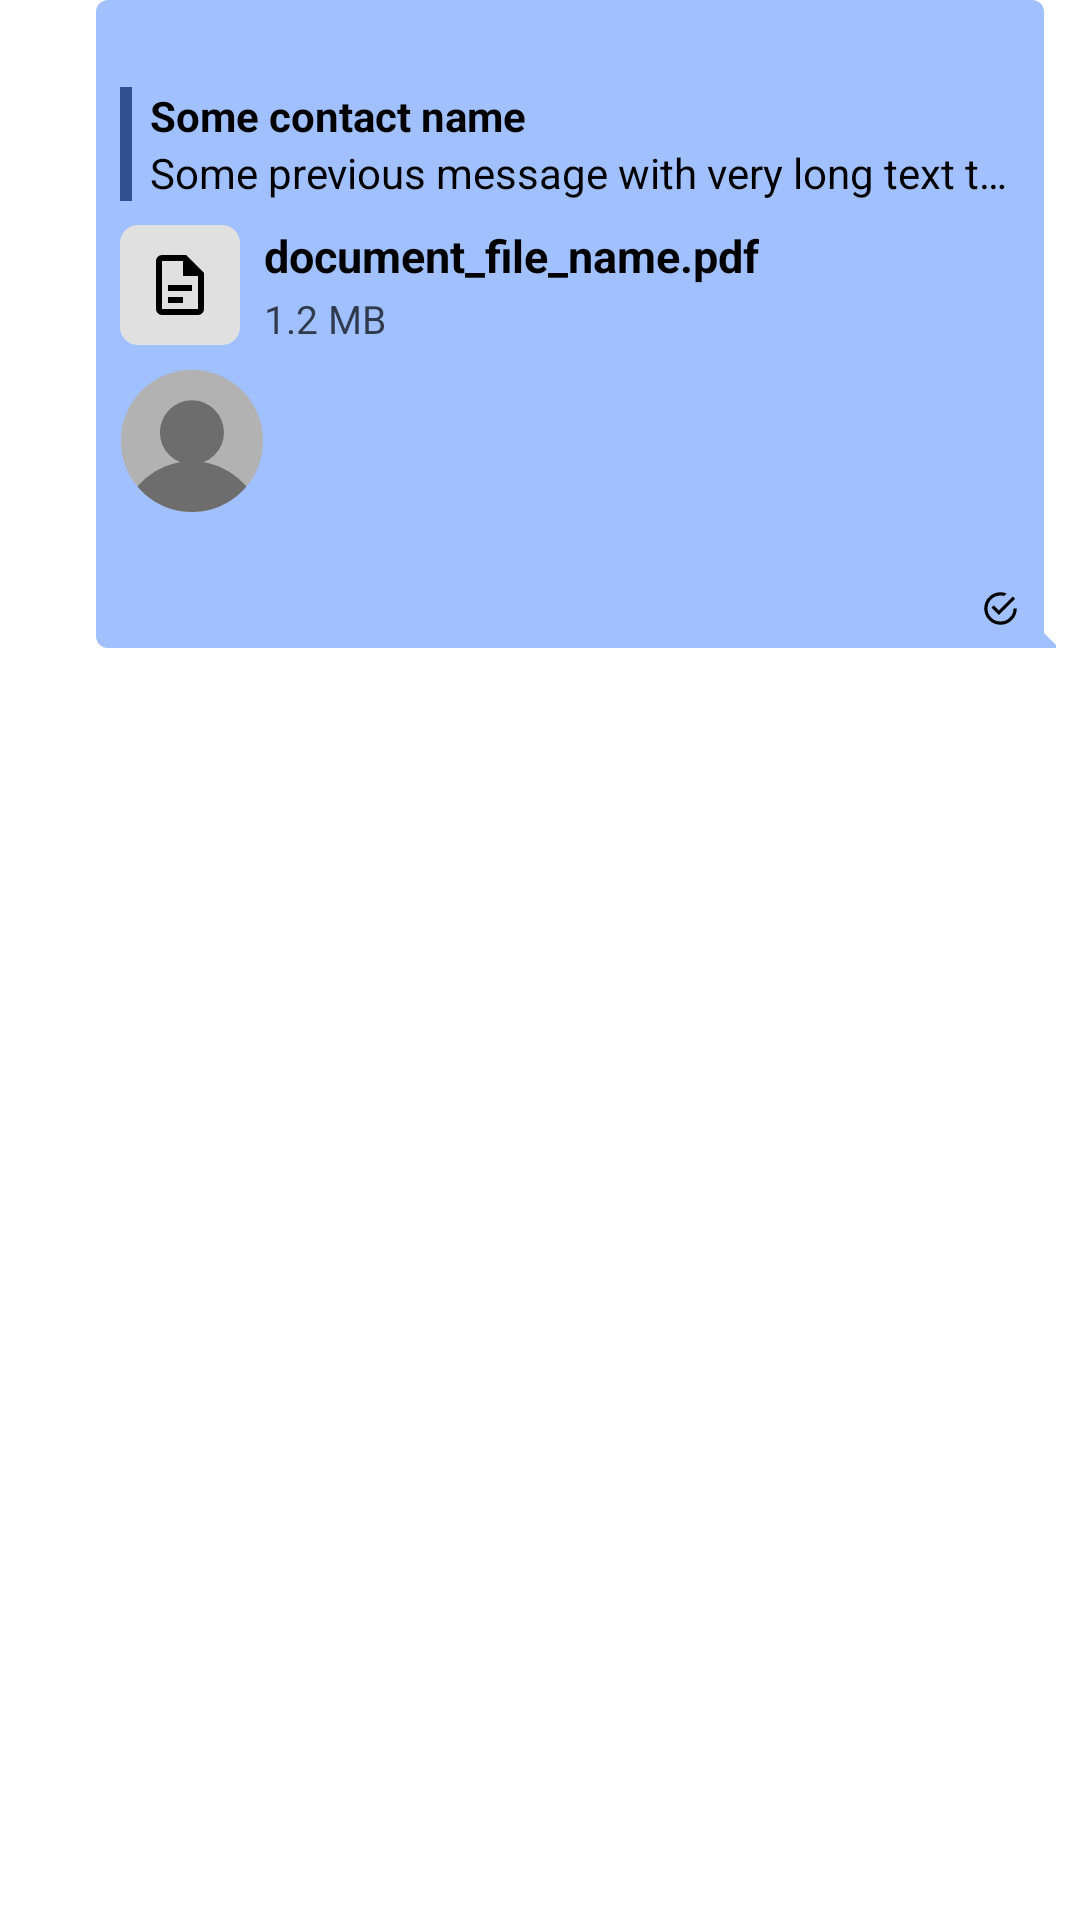

Icons on this 1080x1920 Android screen, each with its box as {"left": x1, "top": y1, "right": x2, "bottom": y2}:
message delivered: {"left": 984, "top": 592, "right": 1017, "bottom": 625}
